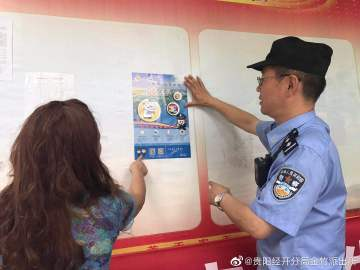bill: (132, 71, 192, 161)
